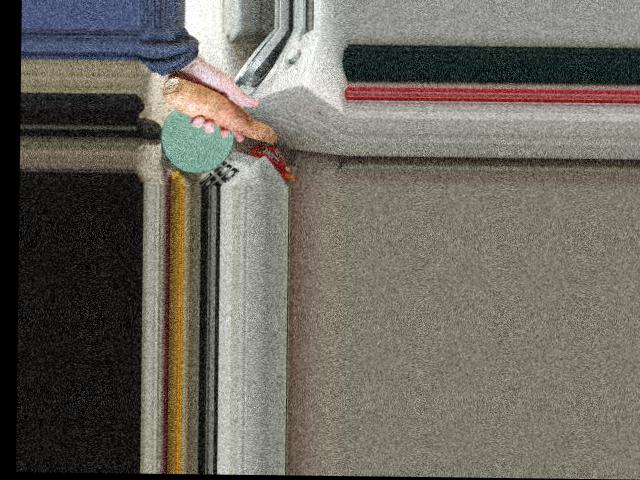sweet_potato: (159, 73, 286, 149)
